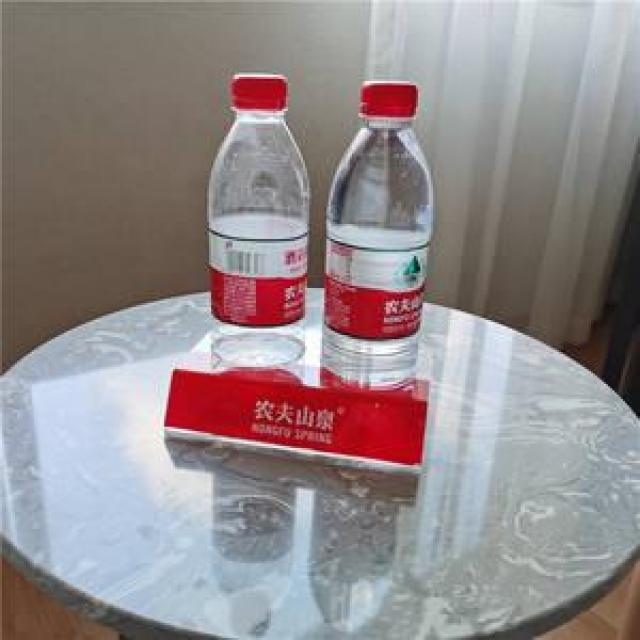bottle: (194, 68, 314, 393)
